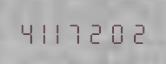four: (17, 20, 35, 44)
one: (36, 20, 54, 44), (55, 20, 73, 44)
seven: (74, 20, 92, 44)
two: (93, 20, 111, 44), (131, 20, 149, 44)
zero: (112, 20, 130, 44)
